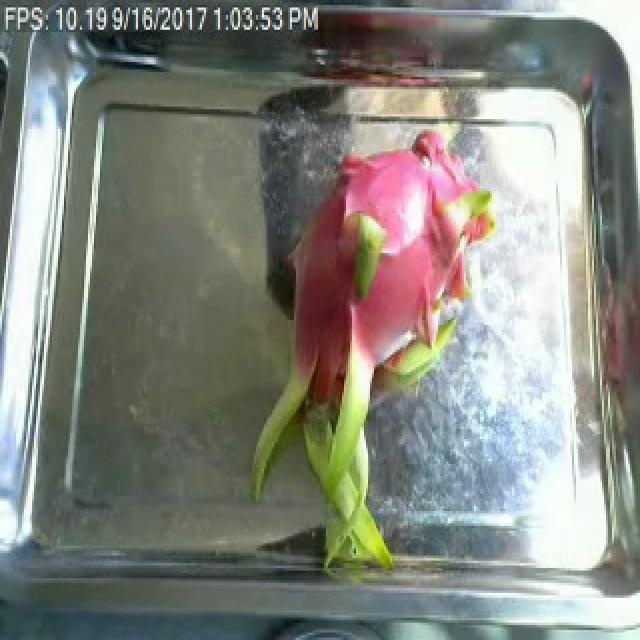fruit: (226, 134, 492, 563)
